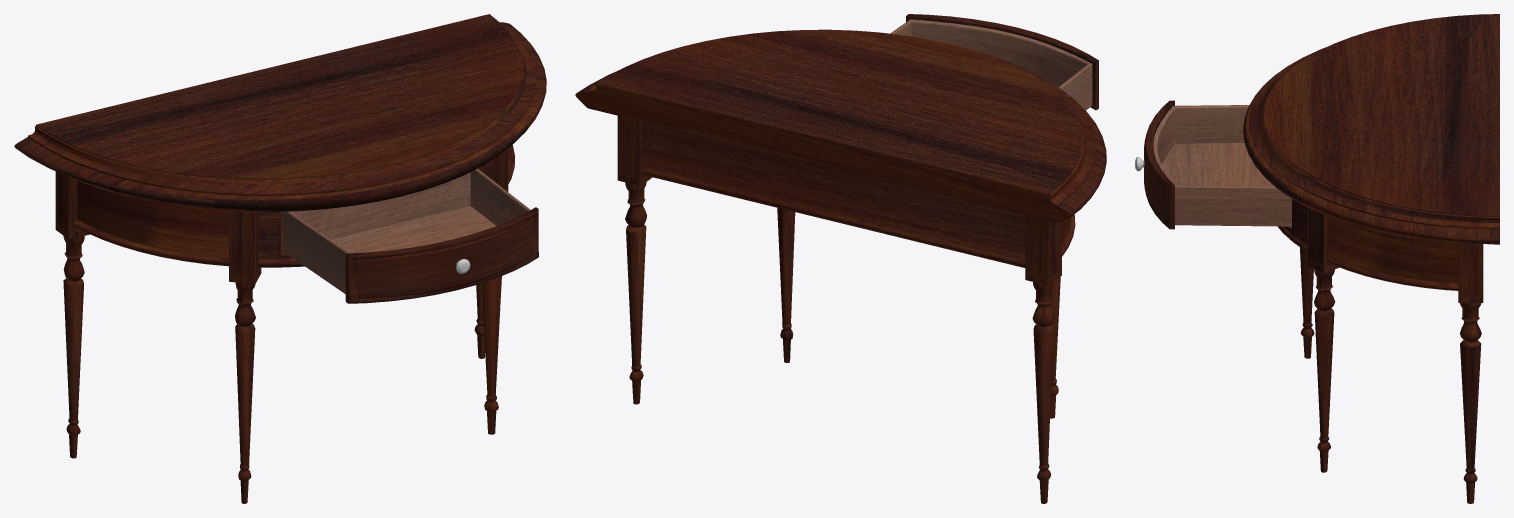
File: Antique Side Table.fbx
3 views of the same model, side by side, from view 1: azimuth 30°, elevation 25°; view 2: azimuth 150°, elevation 25°; view 3: azimuth 270°, elevation 25° (orthographic). The views are drawn at different scales.
Parts seen in each view (by area): view 1: SideTable, DrawerBox, Leg4, Leg3, Leg1; view 2: SideTable, DrawerBox, Leg3, Leg2, Leg1, Leg4; view 3: SideTable, DrawerBox, Leg2, Leg1, Leg4.
Part boxes in pixels (bbox=[...]): SideTable: bbox=[14, 14, 546, 267]; DrawerBox: bbox=[283, 168, 538, 303]; Leg4: bbox=[229, 211, 261, 503]; Leg3: bbox=[55, 171, 89, 458]; Leg1: bbox=[482, 149, 508, 434]; SideTable: bbox=[575, 29, 1106, 267]; DrawerBox: bbox=[890, 14, 1098, 110]; Leg3: bbox=[1025, 215, 1061, 503]; Leg2: bbox=[617, 116, 652, 404]; Leg1: bbox=[777, 208, 795, 362]; Leg4: bbox=[1050, 277, 1060, 418]; SideTable: bbox=[1243, 14, 1499, 290]; DrawerBox: bbox=[1144, 100, 1291, 229]; Leg2: bbox=[1458, 242, 1483, 503]; Leg1: bbox=[1307, 207, 1339, 472]; Leg4: bbox=[1300, 247, 1314, 358].
Size of the model in its own units: 0.9694 by 0.6074 by 0.6751.
